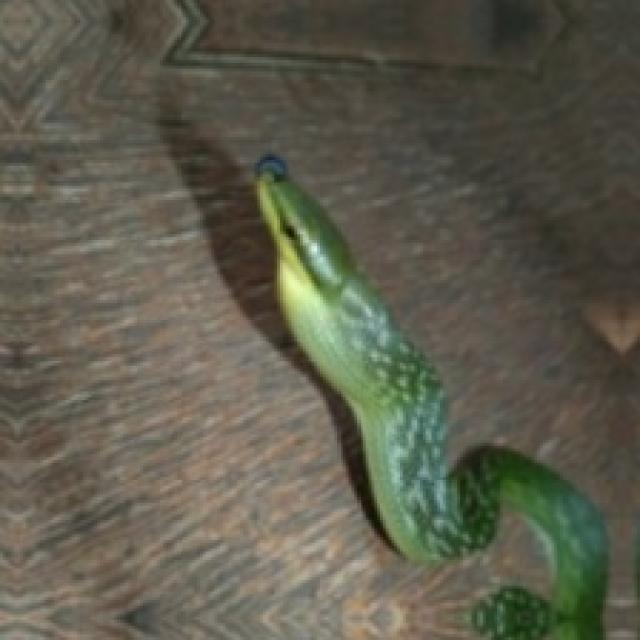red-tailed green ratsnake: (254, 154, 606, 637)
